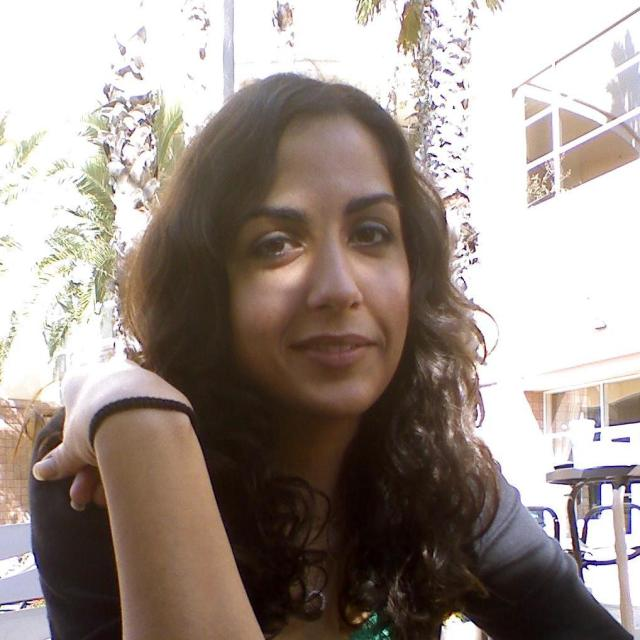no-glass: (248, 215, 389, 265)
